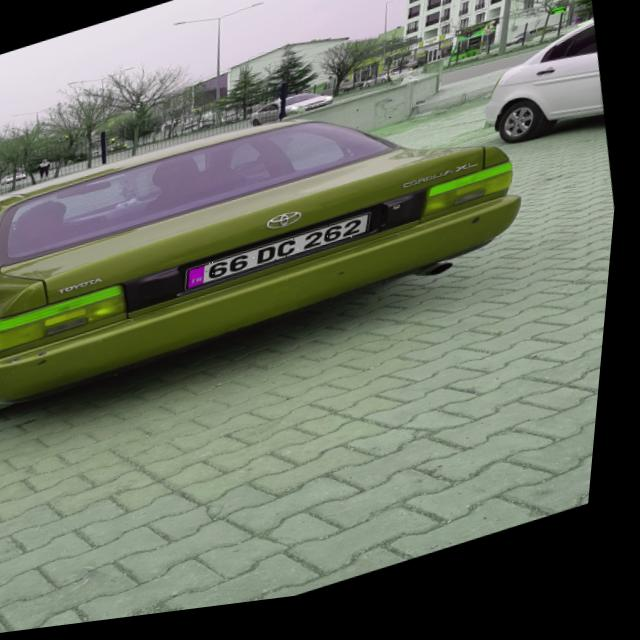license_plate: (185, 221, 379, 296)
